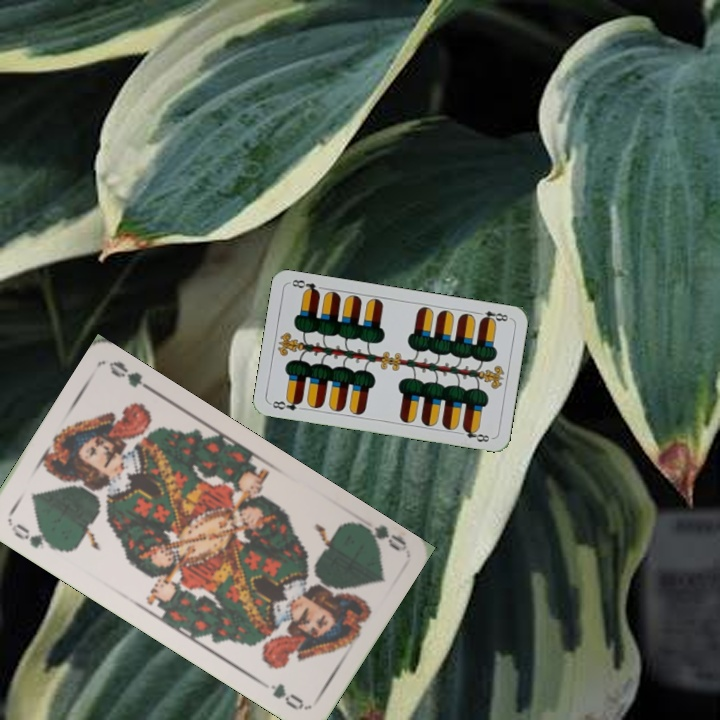E8: (472, 307, 513, 325), (268, 395, 305, 413)
GO: (351, 518, 408, 554), (6, 519, 61, 553)
